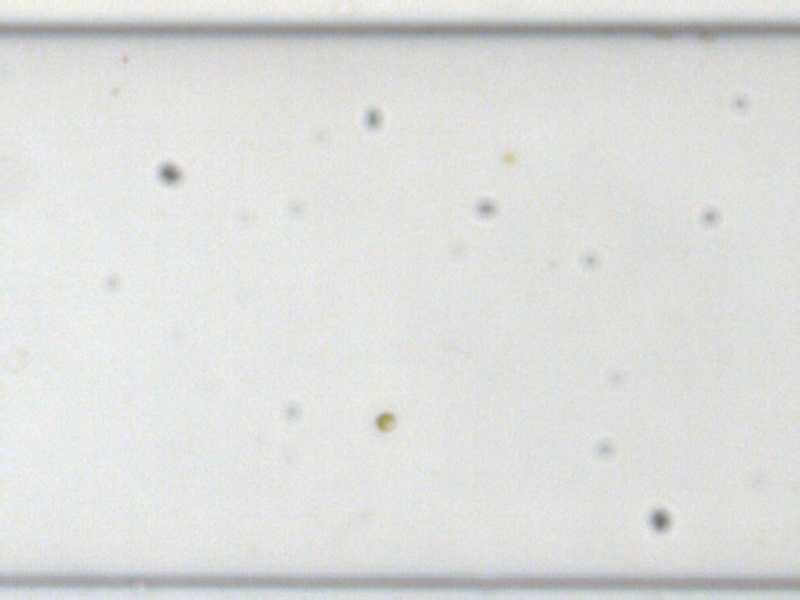Chlorella: (375, 411, 395, 432), (497, 148, 517, 168)
